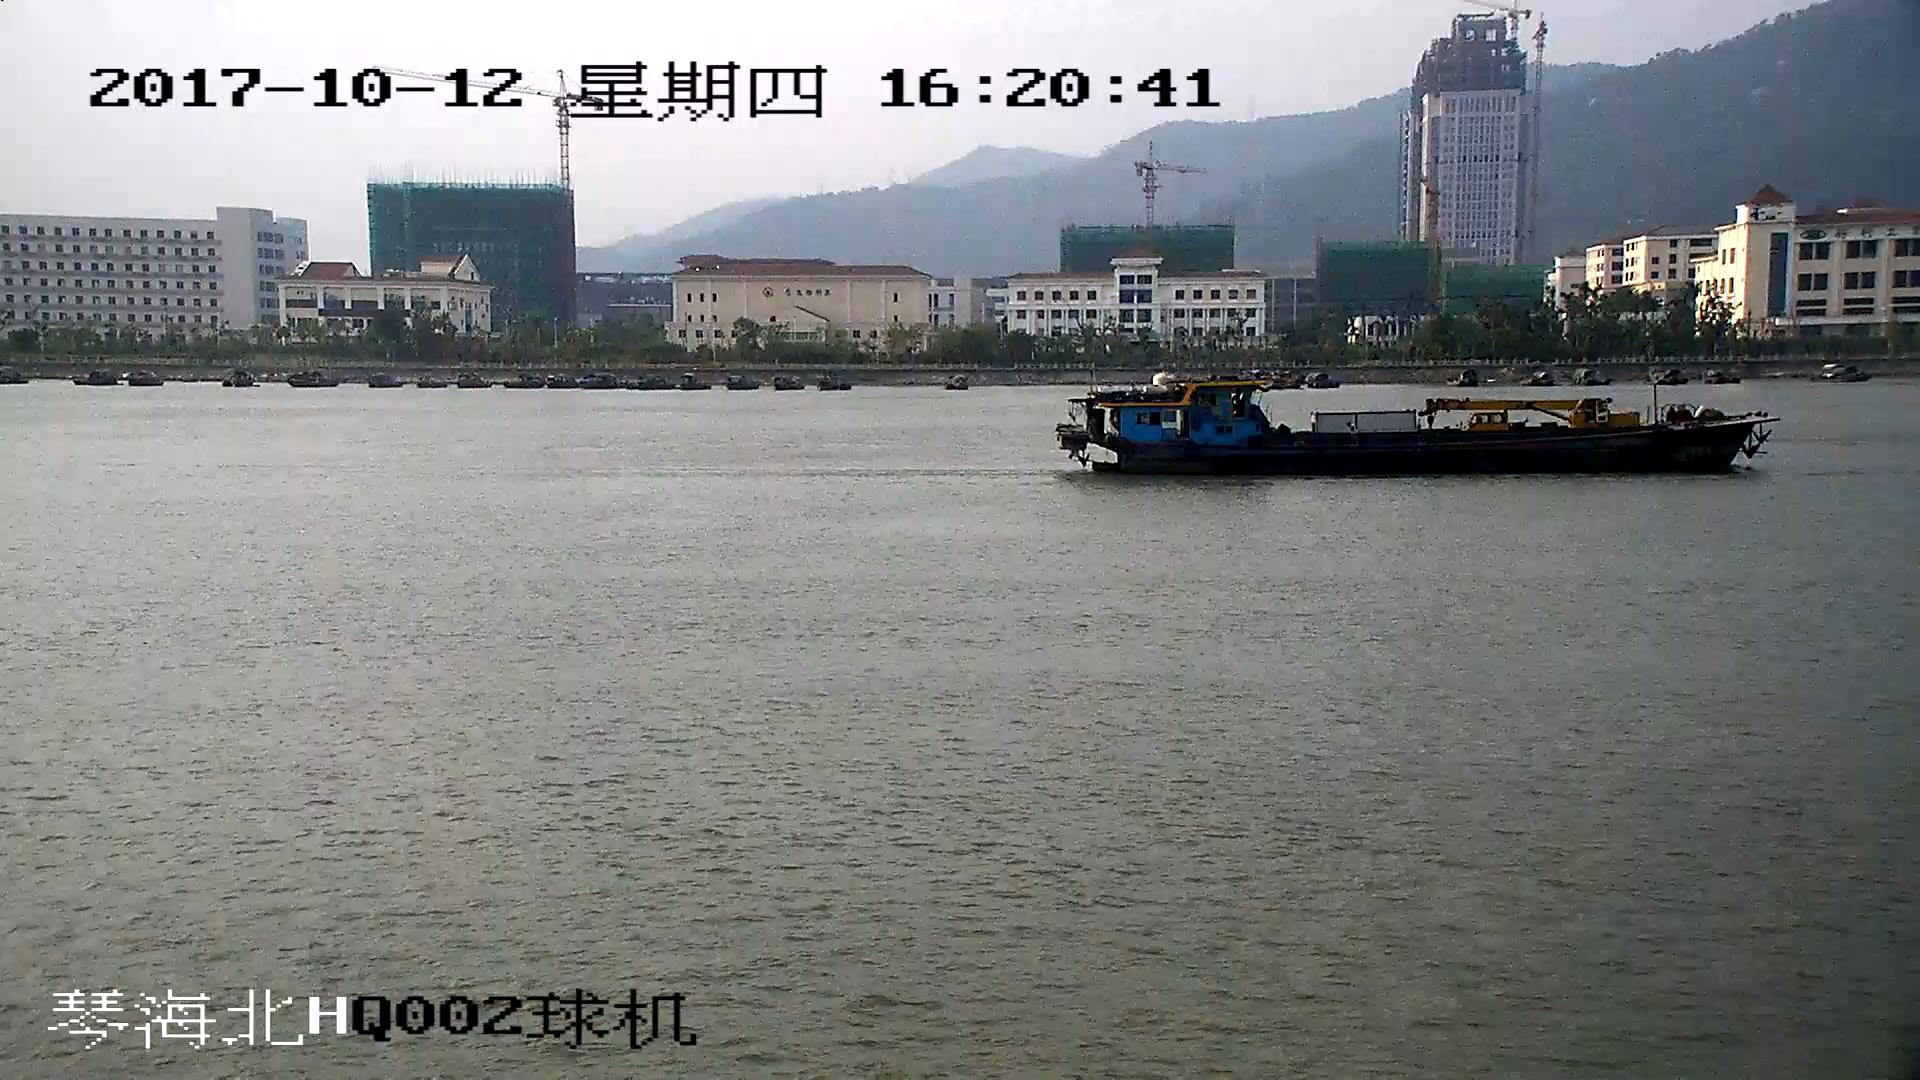fishing boat: (1053, 373, 1769, 475)
